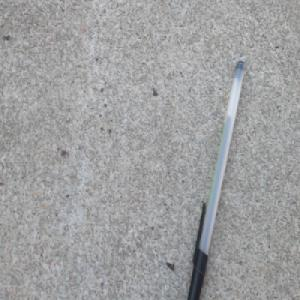Pen: (184, 55, 247, 300)
